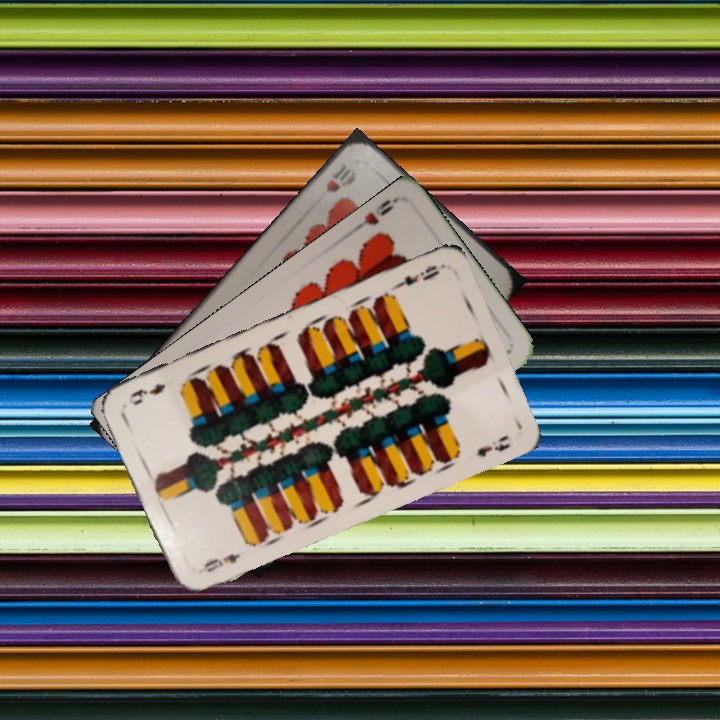E9: (388, 261, 445, 293), (194, 549, 243, 577)
H10: (321, 158, 359, 196)
H9: (348, 194, 400, 235)
